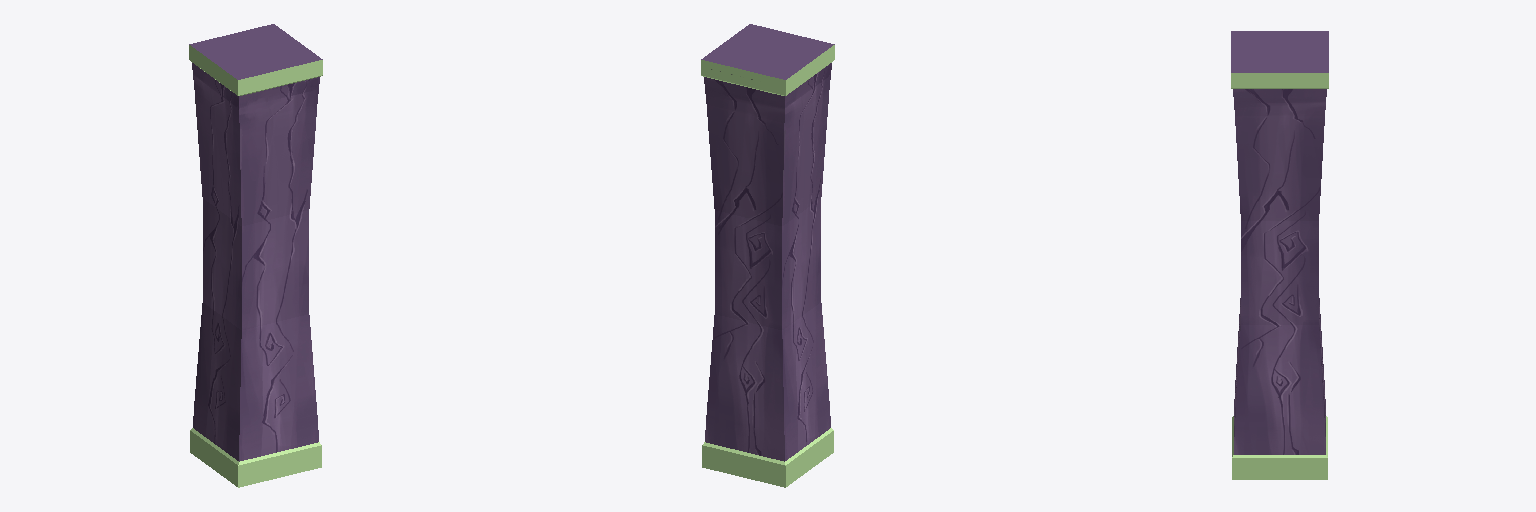
The picture shows the model from 3 angles: view 1: azimuth 30°, elevation 25°; view 2: azimuth 150°, elevation 25°; view 3: azimuth 270°, elevation 25°; orthographic projection.
Visible parts, largest first — view 1: pCube1; view 2: pCube1; view 3: pCube1.
Part boxes in pixels (bbox=[...]): pCube1: bbox=[189, 24, 322, 487]; pCube1: bbox=[701, 24, 834, 487]; pCube1: bbox=[1231, 31, 1328, 479].
Bounding box in the file's own units: 54.4 × 250 × 54.4.
1 materials, 1 textured.